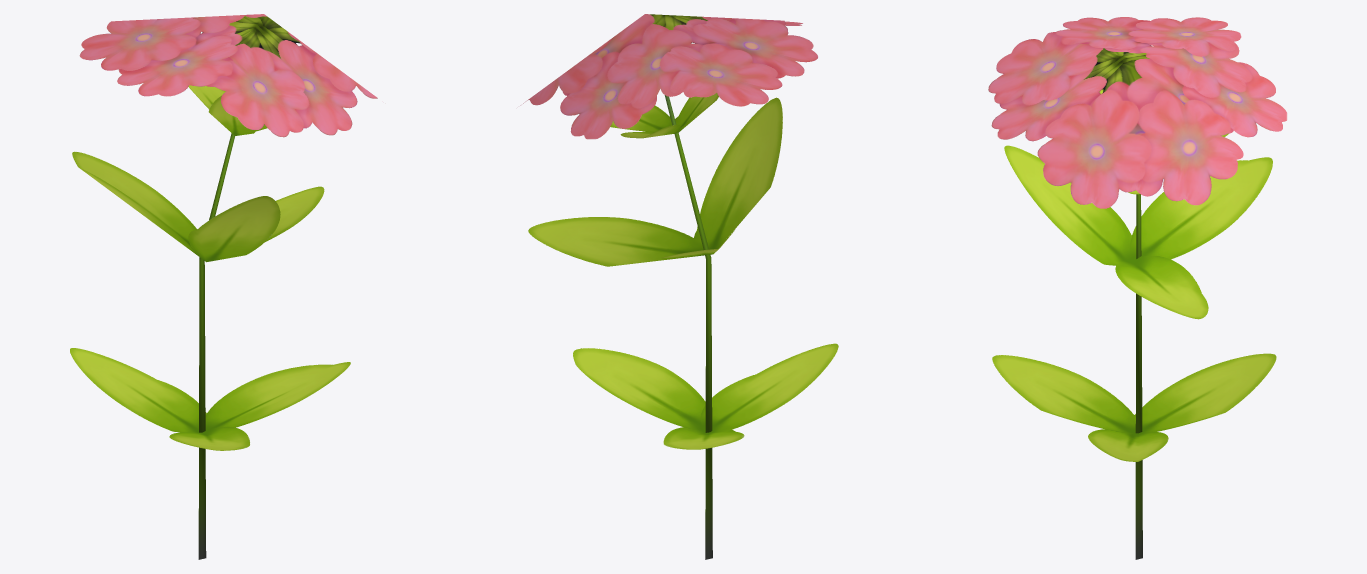
File: PinkFlower 1.fbx
3 views of the same model, side by side, from view 1: azimuth 30°, elevation 25°; view 2: azimuth 150°, elevation 25°; view 3: azimuth 270°, elevation 25° (orthographic).
Parts seen in each view (by area): view 1: Plane.011, Plane.008, Plane.009, Cylinder.003, Plane.010; view 2: Plane.011, Plane.009, Plane.008, Cylinder.003, Plane.010; view 3: Plane.011, Plane.009, Plane.008, Cylinder.003.
Part boxes in pixels (x1,y1,x2,y2): Plane.011: (79,14,377,137); Plane.008: (70,348,350,450); Plane.009: (72,151,324,262); Cylinder.003: (198,133,234,559); Plane.010: (188,85,267,135); Plane.011: (520,14,817,139); Plane.009: (528,97,782,266); Plane.008: (573,343,838,449); Cylinder.003: (664,95,712,559); Plane.010: (610,93,718,138); Plane.011: (988,17,1287,208); Plane.009: (1004,145,1272,319); Plane.008: (992,353,1276,461); Cylinder.003: (1135,194,1142,559).
Bounding box in the file's own units: 74.28 × 100 × 74.28.
